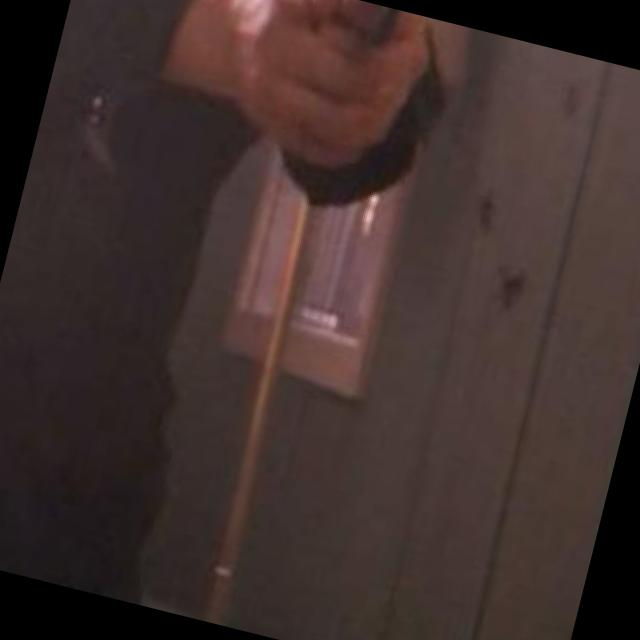Guns: (272, 0, 467, 103)
